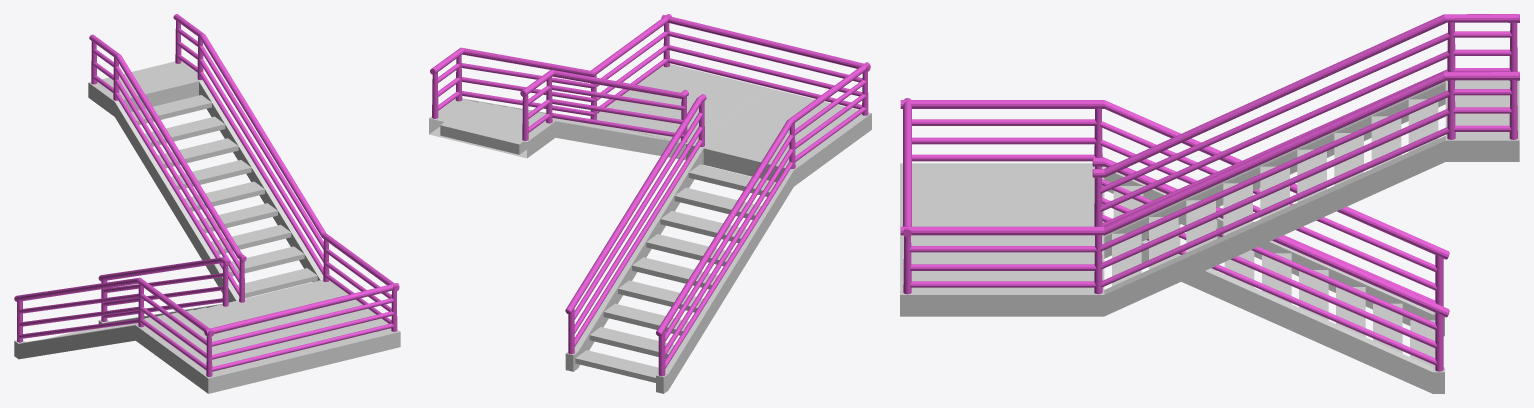
The model's file is M_Stairs_room.fbx.
3 renders of one model, left to right at view 1: azimuth 30°, elevation 25°; view 2: azimuth 150°, elevation 25°; view 3: azimuth 270°, elevation 25°, orthographic. The views are drawn at different scales.
Visible parts, largest first — view 1: Stairs_room; view 2: Stairs_room; view 3: Stairs_room.
Boxes of the visible parts, <box> form: Stairs_room: <box>14,14,400,393</box>; Stairs_room: <box>429,14,871,393</box>; Stairs_room: <box>900,14,1519,393</box>.
Bounding box in the file's own units: 1050 × 1445 × 2090.
